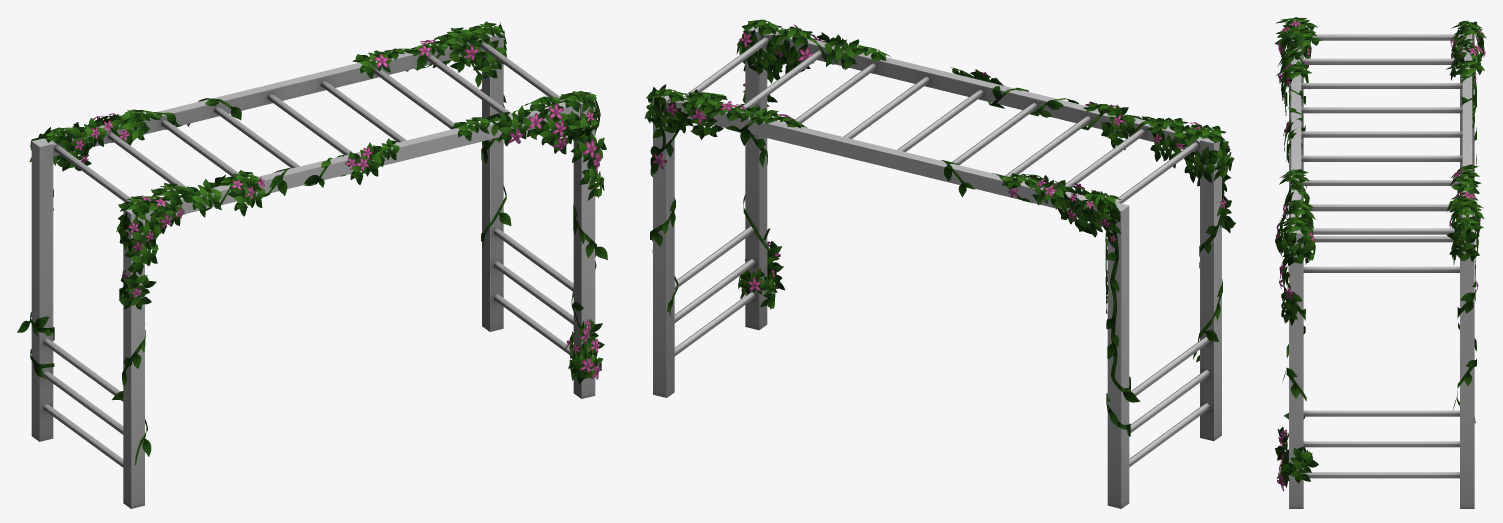
File: syj_zxjianshen01.FBX
The picture shows the model from 3 angles, left to right: view 1: azimuth 30°, elevation 25°; view 2: azimuth 150°, elevation 25°; view 3: azimuth 270°, elevation 25°; orthographic projection. The views are drawn at different scales.
Visible parts, largest first — view 1: syj_zxjianshen01; view 2: syj_zxjianshen01; view 3: syj_zxjianshen01.
Boxes of the visible parts, x1,y1,x2,y2 form: syj_zxjianshen01: (17, 21, 607, 508); syj_zxjianshen01: (644, 19, 1235, 508); syj_zxjianshen01: (1274, 17, 1486, 508).
Bounding box in the file's own units: 446 × 267 × 182.
